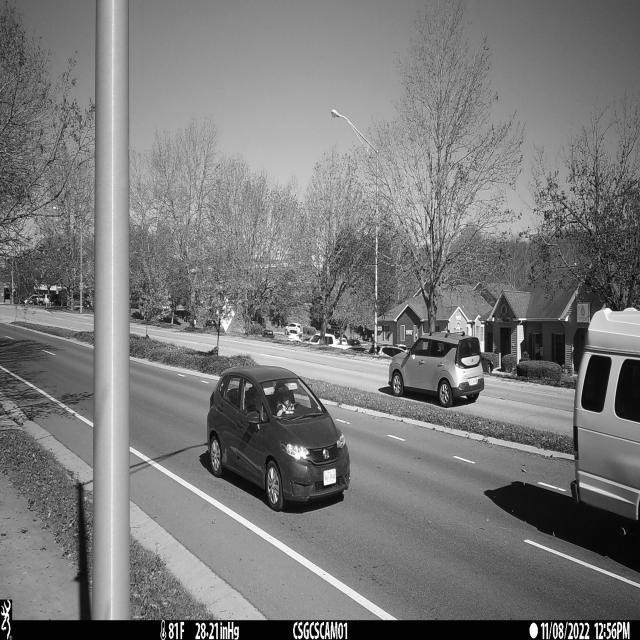Hatchback: (206, 366, 350, 512)
